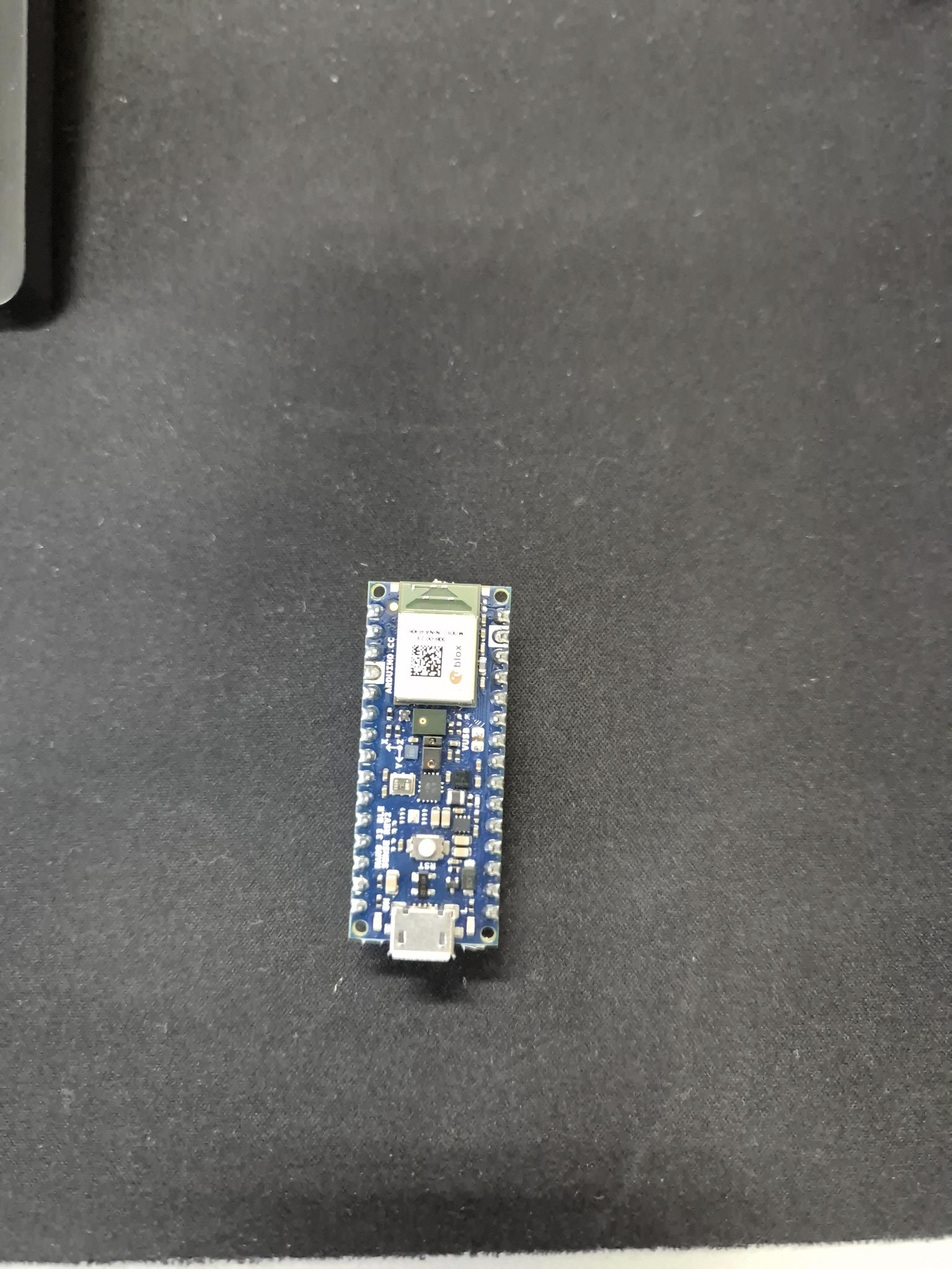arduino-nano-ble-sense: (350, 581, 511, 961)
